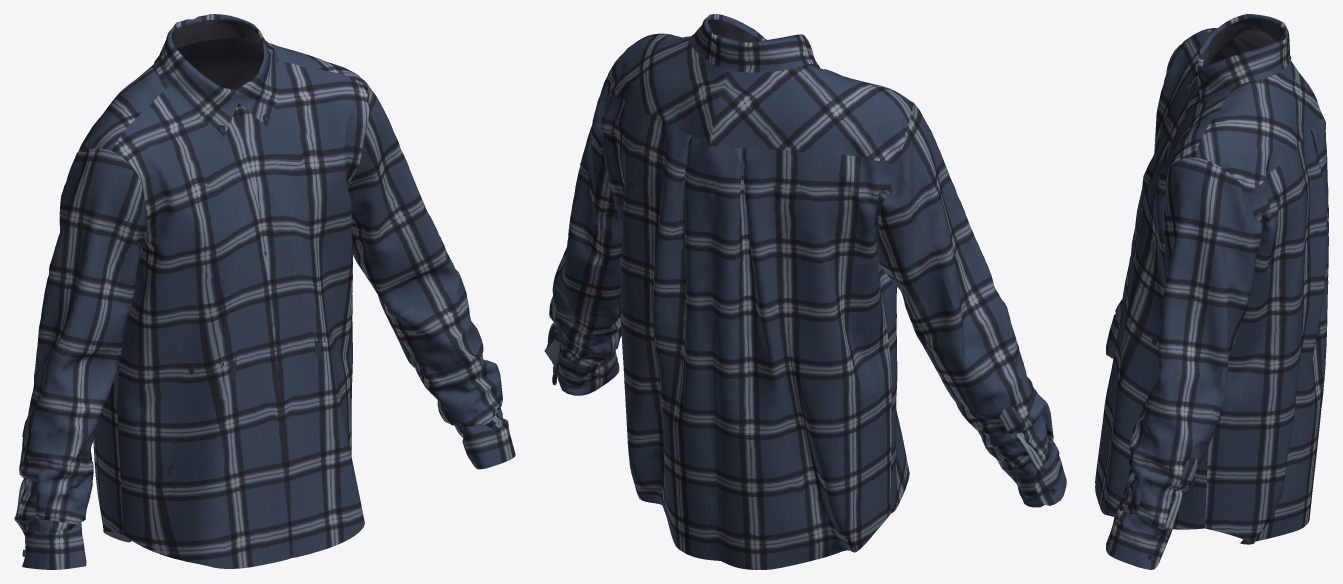
Rendered from flannel.glb.
3 views of the same model, side by side, from view 1: azimuth 30°, elevation 25°; view 2: azimuth 150°, elevation 25°; view 3: azimuth 270°, elevation 25° (orthographic). The views are drawn at different scales.
Visible parts, largest first — view 1: flannel; view 2: flannel; view 3: flannel.
Boxes of the visible parts, <box> form: flannel: <box>14,14,515,569</box>; flannel: <box>544,14,1066,569</box>; flannel: <box>1095,14,1328,569</box>.
Bounding box in the file's own units: 0.8598 × 0.8338 × 0.3694.
14 materials, 10 textured.
